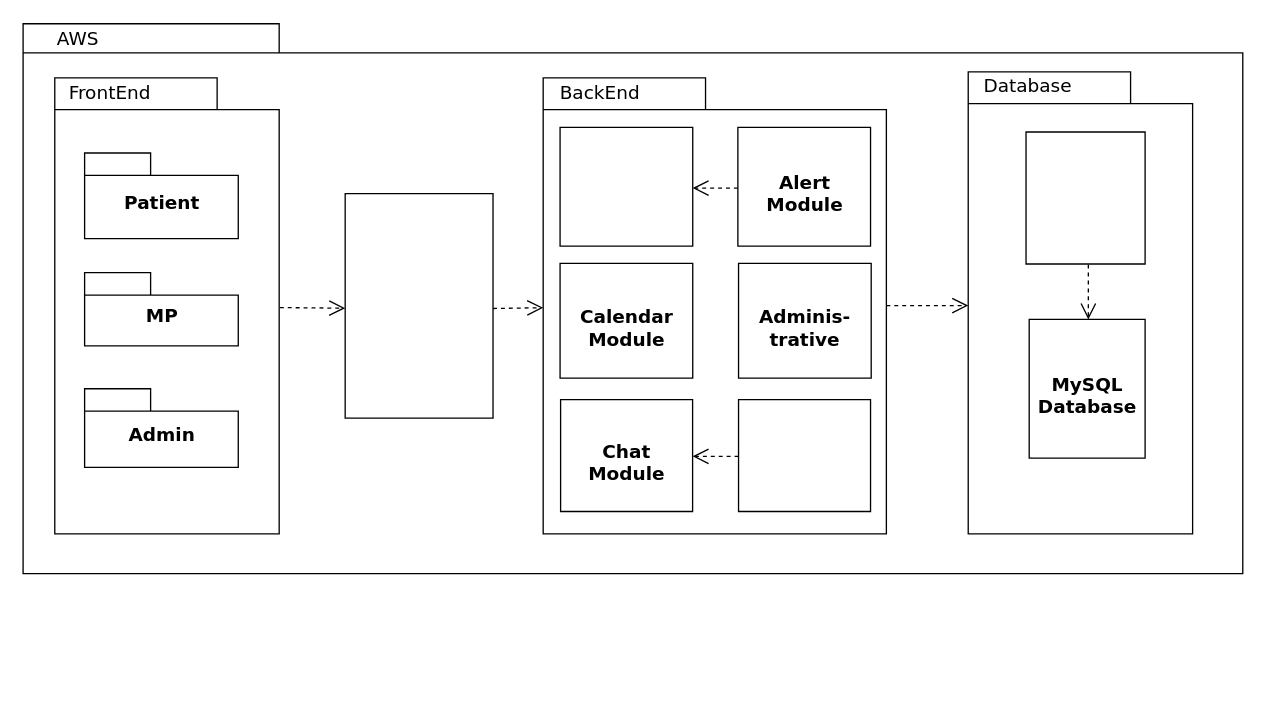
Image size: 1279x727. Some labels were removed from this diagram. Here are the shapes that lost their labels. From the top down, the centre of each, then its label:
(x=626, y=186): Device Module
(x=1085, y=197): Pymysql API
(x=418, y=305): Flask App
(x=804, y=455): Voice Transcriber
